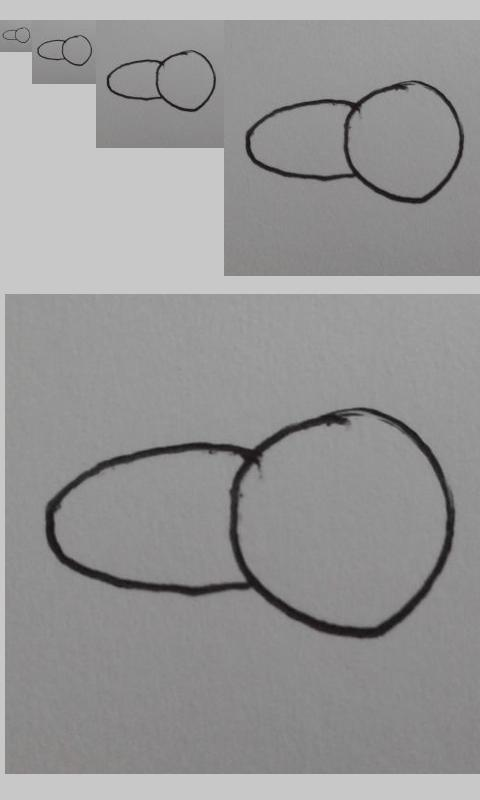switch: (45, 406, 456, 640), (244, 80, 465, 205), (106, 49, 216, 112), (37, 34, 93, 67), (2, 26, 31, 43)
